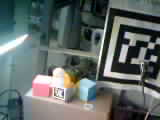duck: (42, 57, 80, 92)
